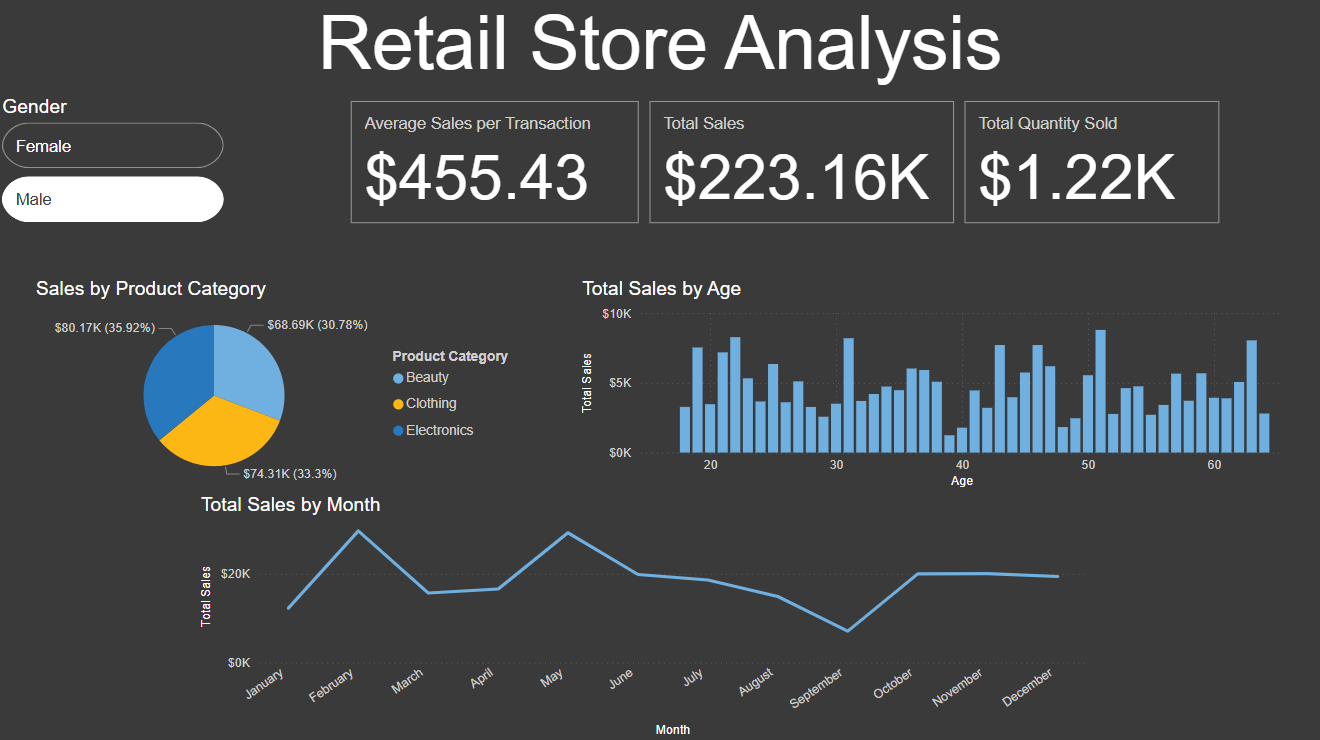

Layout of this report page (visuals, bound fields, positions):
{"tool":"powerbi","page":{"name":"Retail Store Sales Analysis Dashboard","canvas":[1280,720],"ordinal":0},"visuals":[{"type":"group","id":"g1","title":"Group 1","box":[0,96,224,128],"z":0},{"type":"advancedSlicerVisual","fields":{"Values":["retail_sales_dataset.Gender"]},"box":[0,96,224,128],"z":0,"group":"g1"},{"type":"cardVisual","fields":{"Data":["retail_sales_dataset.Average Sales per Transaction"]},"box":[336,96,288,128],"z":0,"group":"g3"},{"type":"cardVisual","fields":{"Data":["retail_sales_dataset.Total Sales"]},"box":[624,96,304,128],"z":1000,"group":"g3"},{"type":"pieChart","title":"Sales by Product Category","fields":{"Y":["retail_sales_dataset.Total Sales"],"Series":["retail_sales_dataset.Product Category"]},"box":[32,272,480,208],"z":1000},{"type":"cardVisual","fields":{"Data":["retail_sales_dataset.Total Quantity Sold"]},"box":[928,96,256,128],"z":2000,"group":"g3"},{"type":"group","id":"g2","title":"Group 3","box":[192,480,864,240],"z":2000},{"type":"lineChart","fields":{"Category":["retail_sales_dataset.Date.Variation.Date Hierarchy.Month","retail_sales_dataset.Date.Variation.Date Hierarchy.Day"],"Y":["retail_sales_dataset.Total Sales"]},"box":[192,480,864,240],"z":2000,"group":"g2"},{"type":"columnChart","fields":{"Y":["retail_sales_dataset.Total Sales"],"Category":["retail_sales_dataset.Age"]},"box":[560,272,688,208],"z":3000},{"type":"textbox","box":[0,0,1280,96],"z":4000},{"type":"actionButton","box":[0,0,100,40],"z":5000},{"type":"group","id":"g3","title":"Group 2","box":[336,96,848,128],"z":6000}]}

Visuals, with their boxes in screenshot pixels (x1, y1, x2, y2), scaled from the page's 1280x720 canvas onto the 1320x740 screenshot:
"Group 1" group: (0, 99, 231, 230)
advancedSlicerVisual - retail_sales_dataset.Gender: (0, 99, 231, 230)
cardVisual - retail_sales_dataset.Average Sales per Transaction: (346, 99, 644, 230)
cardVisual - retail_sales_dataset.Total Sales: (644, 99, 957, 230)
"Sales by Product Category" pieChart: (33, 280, 528, 493)
cardVisual - retail_sales_dataset.Total Quantity Sold: (957, 99, 1221, 230)
"Group 3" group: (198, 493, 1089, 739)
lineChart - retail_sales_dataset.Date.Variation.Date Hierarchy.Month x retail_sales_dataset.Date.Variation.Date Hierarchy.Day: (198, 493, 1089, 739)
columnChart - retail_sales_dataset.Total Sales x retail_sales_dataset.Age: (578, 280, 1287, 493)
textbox: (0, 0, 1319, 99)
actionButton: (0, 0, 103, 41)
"Group 2" group: (346, 99, 1221, 230)
